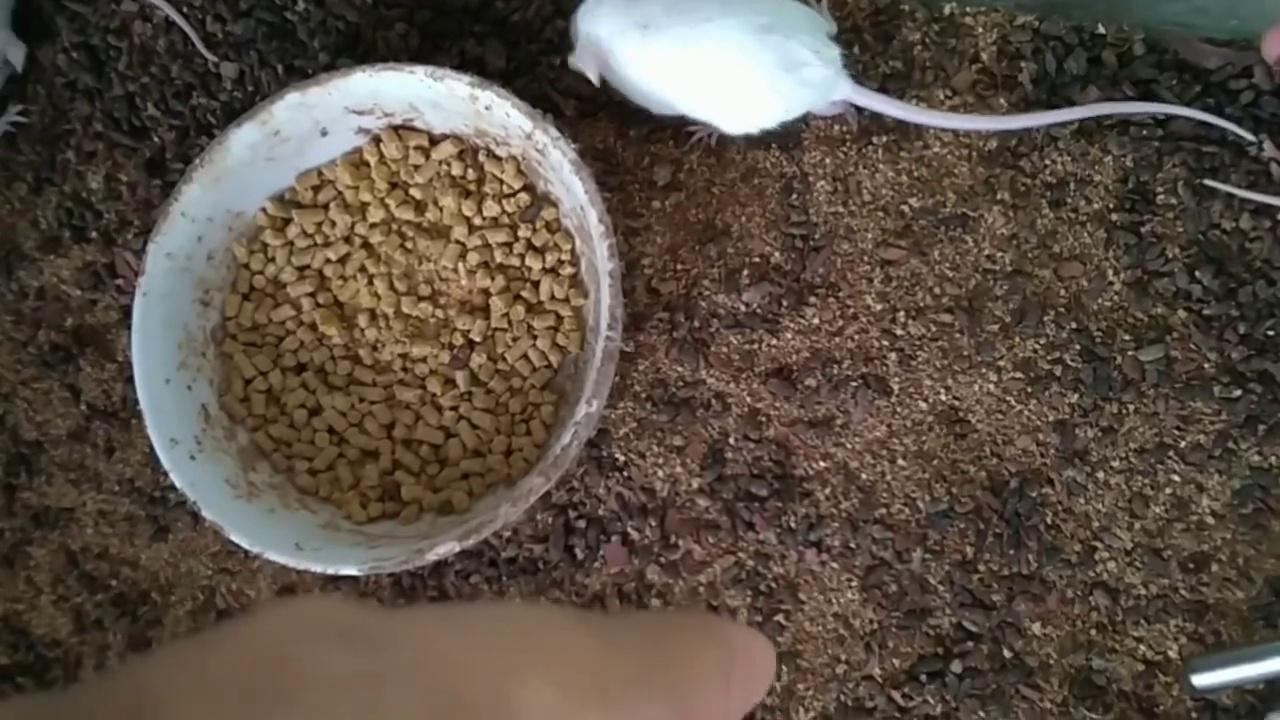rat: (567, 0, 1255, 148)
